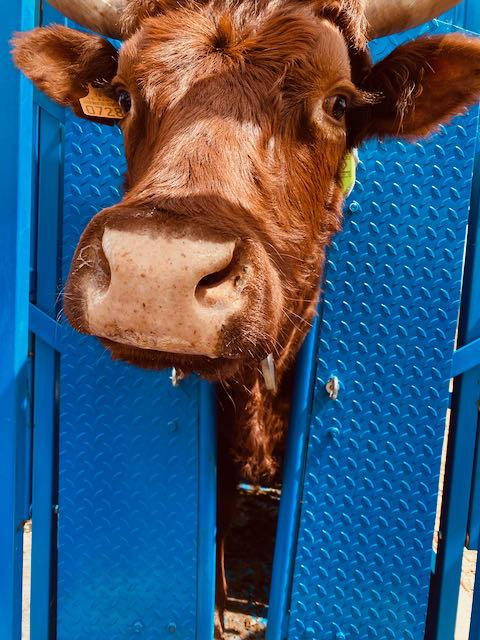muzzles: (64, 207, 258, 372)
